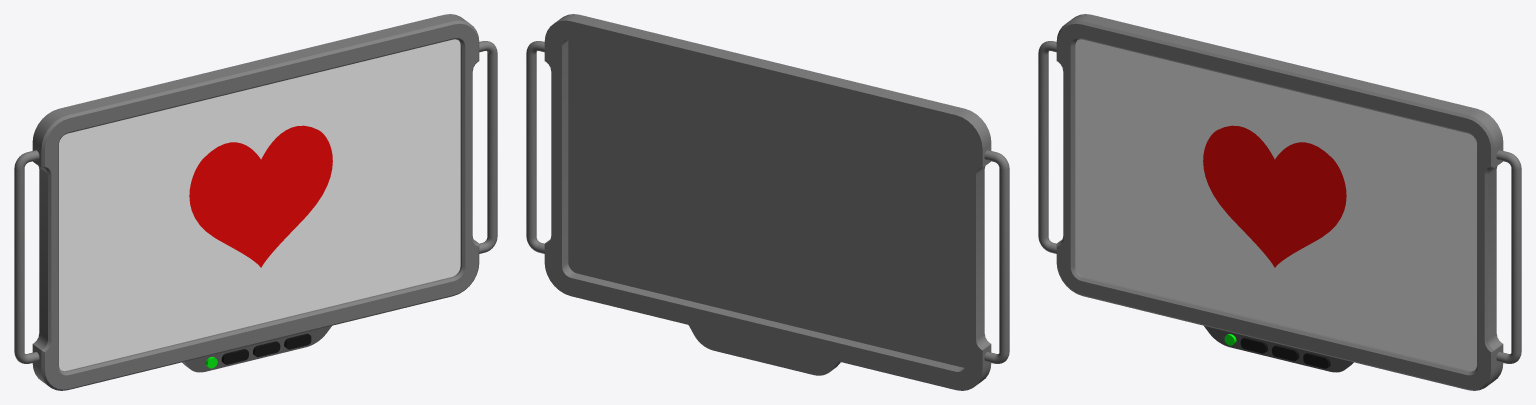
File: #02_Obj_Display.FBX
3 renders of one model, left to right at view 1: azimuth 30°, elevation 25°; view 2: azimuth 150°, elevation 25°; view 3: azimuth 330°, elevation 25°, orthographic.
Visible parts, largest first — view 1: #02_Obj_Display, heart; view 2: #02_Obj_Display; view 3: #02_Obj_Display, heart.
Boxes of the visible parts, x1,y1,x2,y2 form: #02_Obj_Display: (14,14,497,390); heart: (189,125,332,267); #02_Obj_Display: (526,14,1009,390); #02_Obj_Display: (1038,14,1521,390); heart: (1203,125,1346,267).
Size of the model in its own units: 3850 by 140 by 2250.
